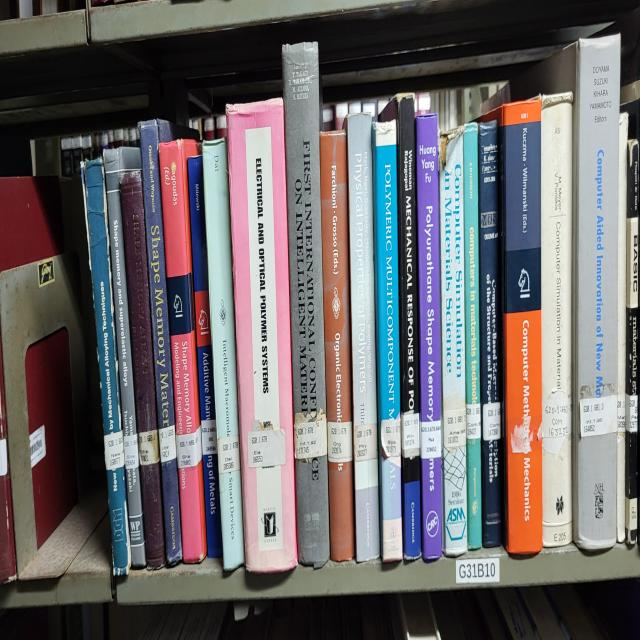Book: (520, 35, 620, 549), (228, 97, 298, 574), (479, 97, 542, 555), (282, 43, 330, 568), (81, 160, 131, 576), (160, 141, 206, 563), (139, 119, 182, 565), (381, 95, 421, 560), (120, 170, 166, 568), (102, 149, 146, 565), (202, 138, 244, 571), (346, 114, 380, 563), (320, 130, 355, 560), (541, 92, 572, 547), (188, 157, 222, 557), (372, 119, 402, 563), (439, 127, 468, 555), (415, 114, 442, 560), (479, 122, 501, 547), (464, 124, 482, 549), (625, 138, 639, 547), (616, 114, 629, 544)
Label: (542, 390, 571, 457), (294, 409, 328, 460), (580, 395, 618, 438), (248, 430, 286, 468), (176, 427, 202, 468), (354, 422, 378, 463), (328, 422, 352, 463), (444, 406, 466, 449), (401, 411, 420, 457), (420, 419, 441, 460), (104, 430, 125, 471), (218, 436, 240, 473), (381, 417, 401, 457), (139, 430, 160, 465), (482, 403, 501, 441), (159, 425, 176, 463), (201, 419, 218, 455), (124, 433, 139, 471), (466, 403, 481, 438), (625, 395, 638, 433), (618, 392, 626, 433)
